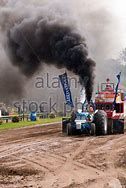smoke: (1, 14, 97, 103)
